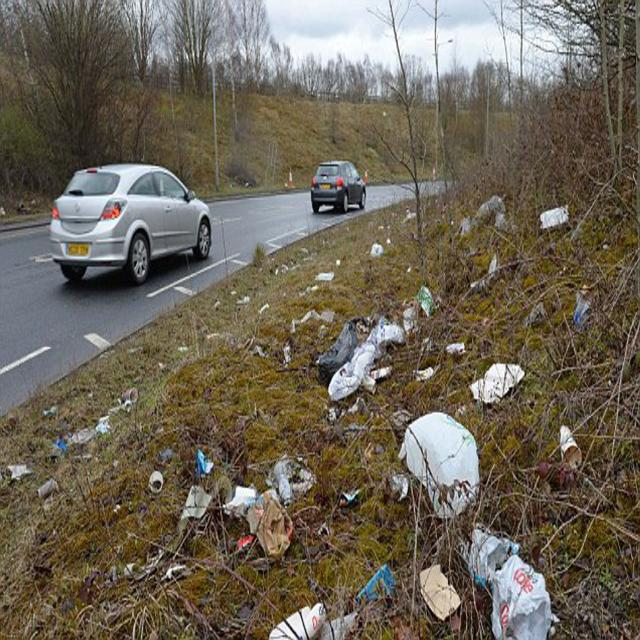garbage: (1, 200, 640, 640)
